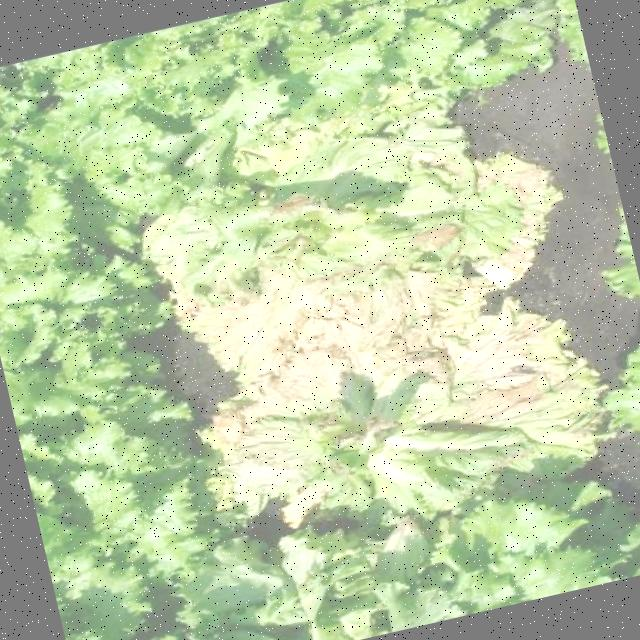Wilt_and_leaf_blight_on_lettuce: (223, 273, 593, 558)
